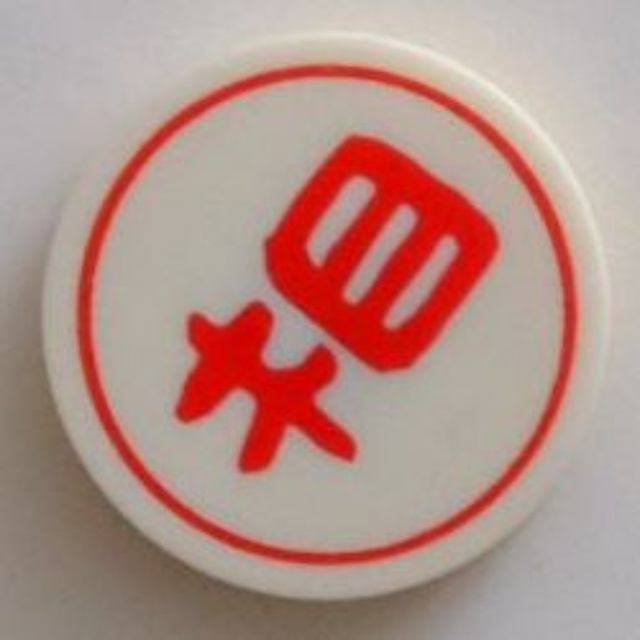red_bo: (39, 27, 622, 607)
